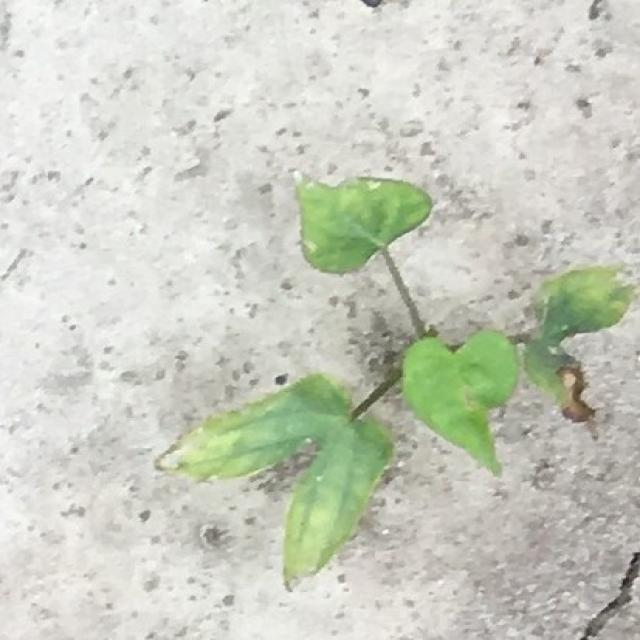MorningGlory: (158, 166, 639, 595)
